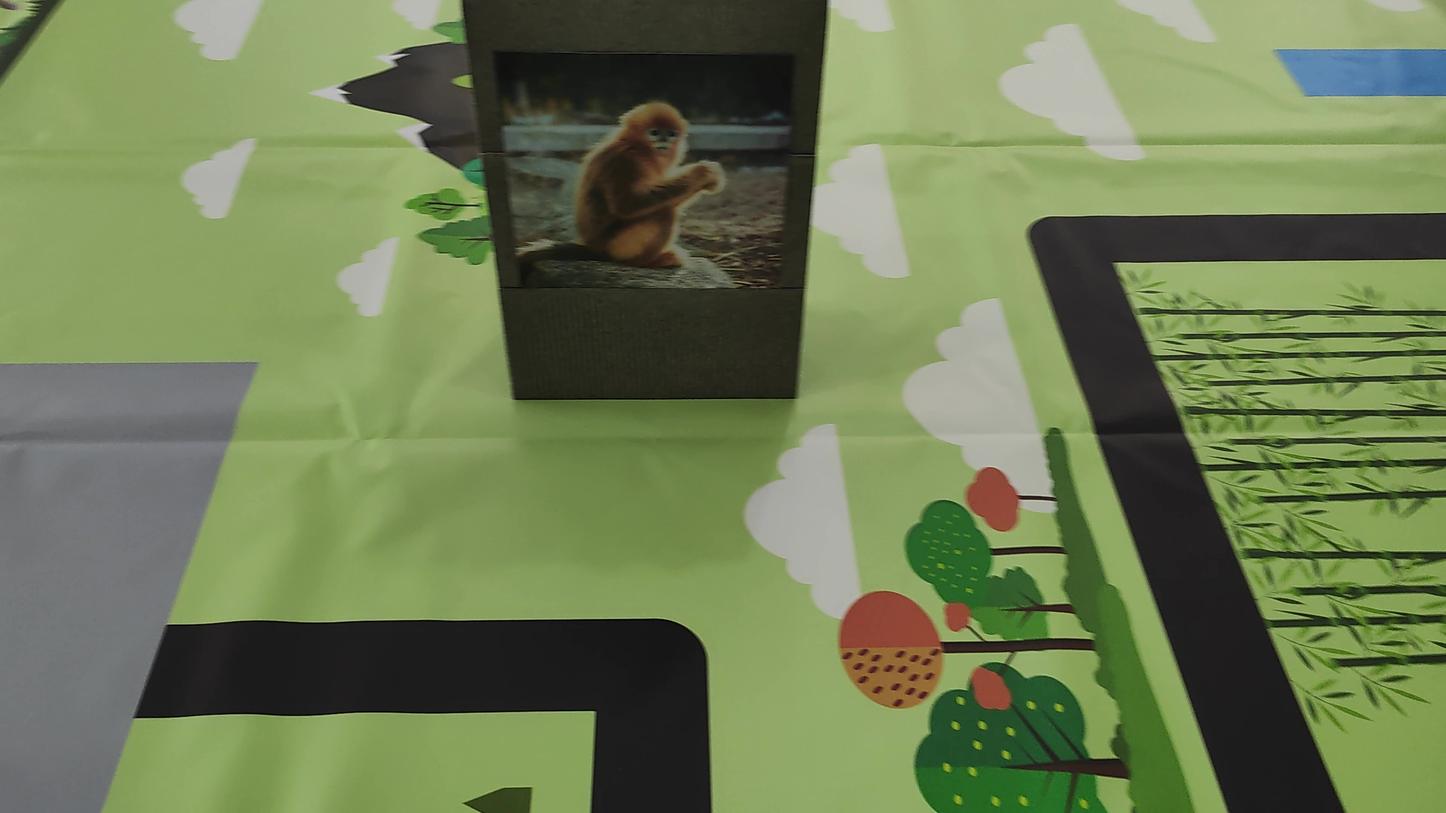monkey: (536, 59, 757, 282)
